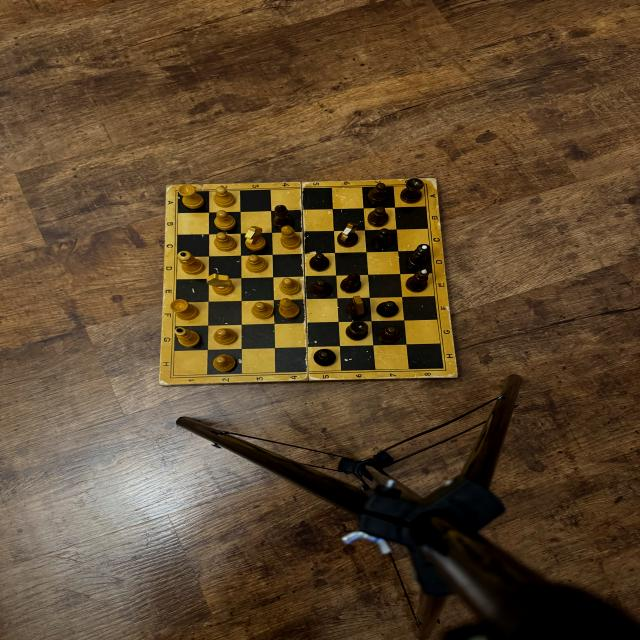black-bishop: (340, 272, 362, 294), (274, 205, 294, 229)
black-king: (405, 269, 429, 292)
black-knight: (337, 222, 359, 247), (346, 296, 368, 318)
black-pawn: (367, 206, 389, 227), (372, 228, 393, 249), (368, 183, 388, 204), (310, 279, 332, 298), (376, 300, 399, 318), (378, 325, 401, 343), (313, 349, 336, 367), (309, 253, 330, 272)
black-queen: (406, 244, 431, 268)
black-rook: (400, 178, 424, 204), (346, 320, 368, 340)
white-bishop: (280, 225, 301, 250), (279, 298, 300, 319)
white-king: (175, 328, 201, 348)
white-knight: (206, 274, 235, 296), (245, 226, 267, 251)
white-pawn: (213, 186, 236, 208), (214, 210, 236, 231), (214, 232, 237, 252), (213, 354, 237, 373), (245, 254, 268, 273), (213, 328, 238, 345), (279, 277, 301, 296), (251, 302, 274, 320)
white-queen: (177, 251, 205, 275)
white-rook: (178, 184, 205, 210), (170, 299, 200, 321)
